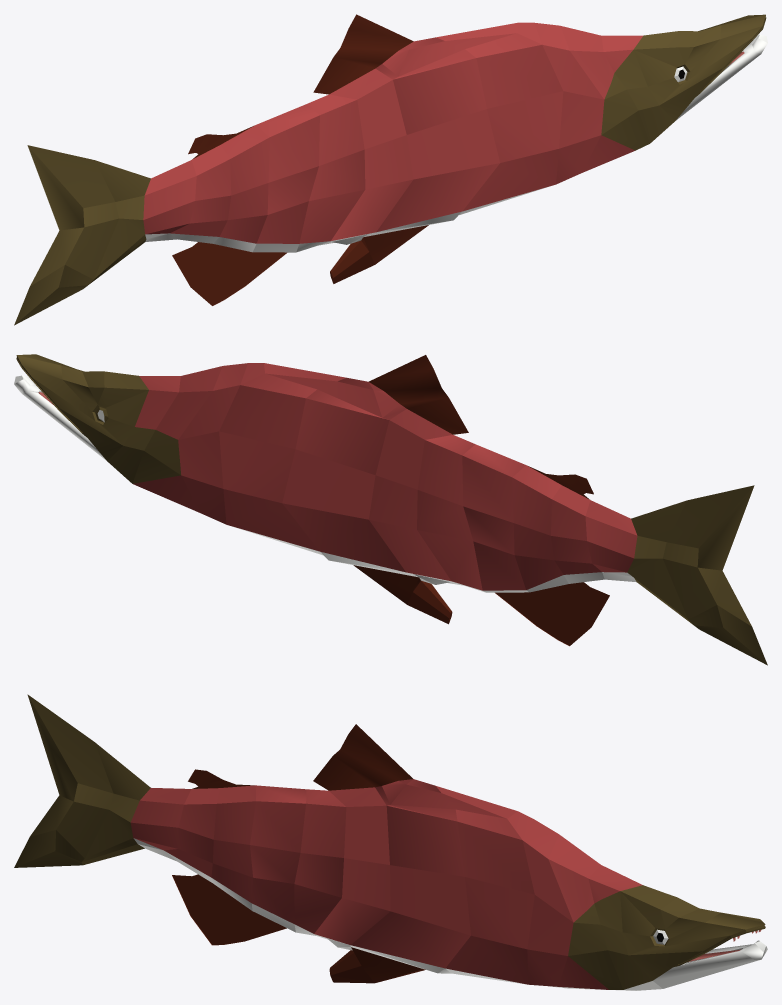
File: SockeyeSalmon.fbx
The picture shows the model from 3 angles, top to bottom: view 1: azimuth 30°, elevation 25°; view 2: azimuth 150°, elevation 25°; view 3: azimuth 330°, elevation 25°; orthographic projection.
Parts seen in each view (by area): view 1: Sockeye; view 2: Sockeye; view 3: Sockeye.
Part boxes in pixels (x1,y1,x2,y2): Sockeye: [14, 14, 767, 325]; Sockeye: [14, 354, 767, 665]; Sockeye: [14, 694, 767, 990].
Size of the model in its own units: 464 by 156 by 34.98.
